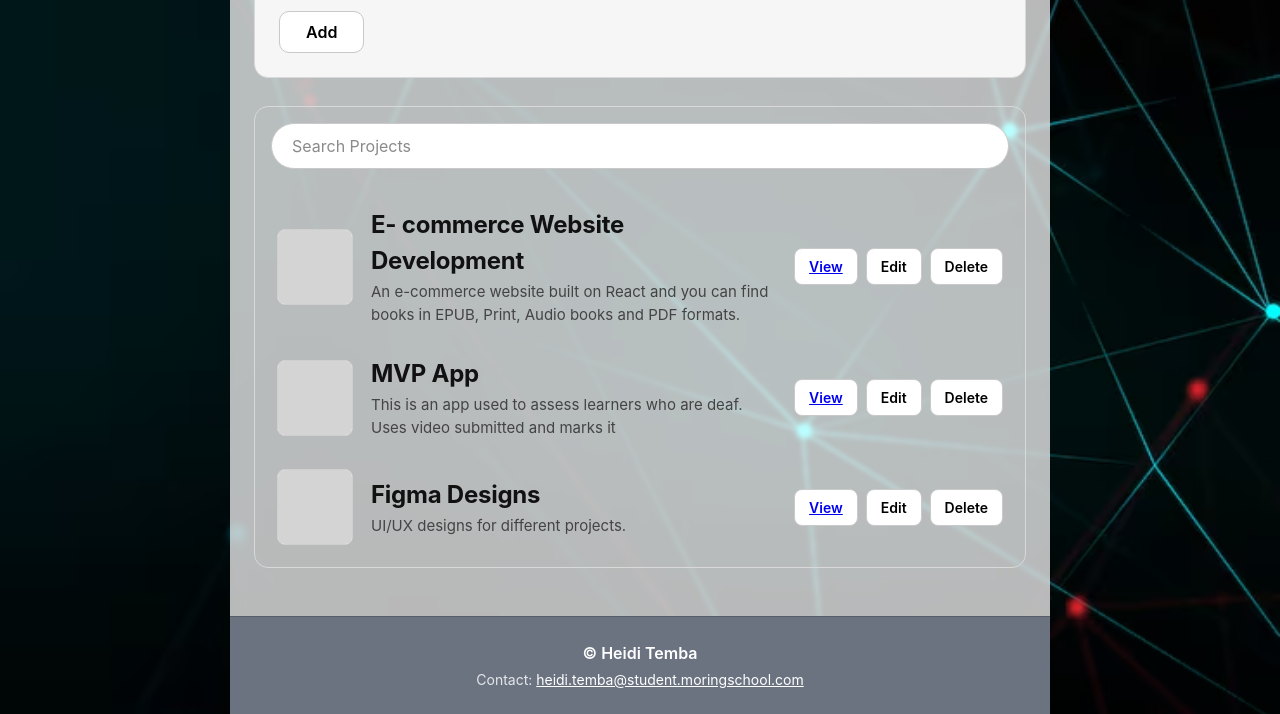
it: App (routing + CRUD) › DELETE: removes a project from the list
This screenshot has width=1280, height=714.
(page scrolled)
Expected: the heading "Figma Designs" is shown, [371,480,540,509]
Click the button "Delete" in the row of "Figma Designs". click: coordinates (966, 507)
box: [930,488,1003,526]
(page scrolled)
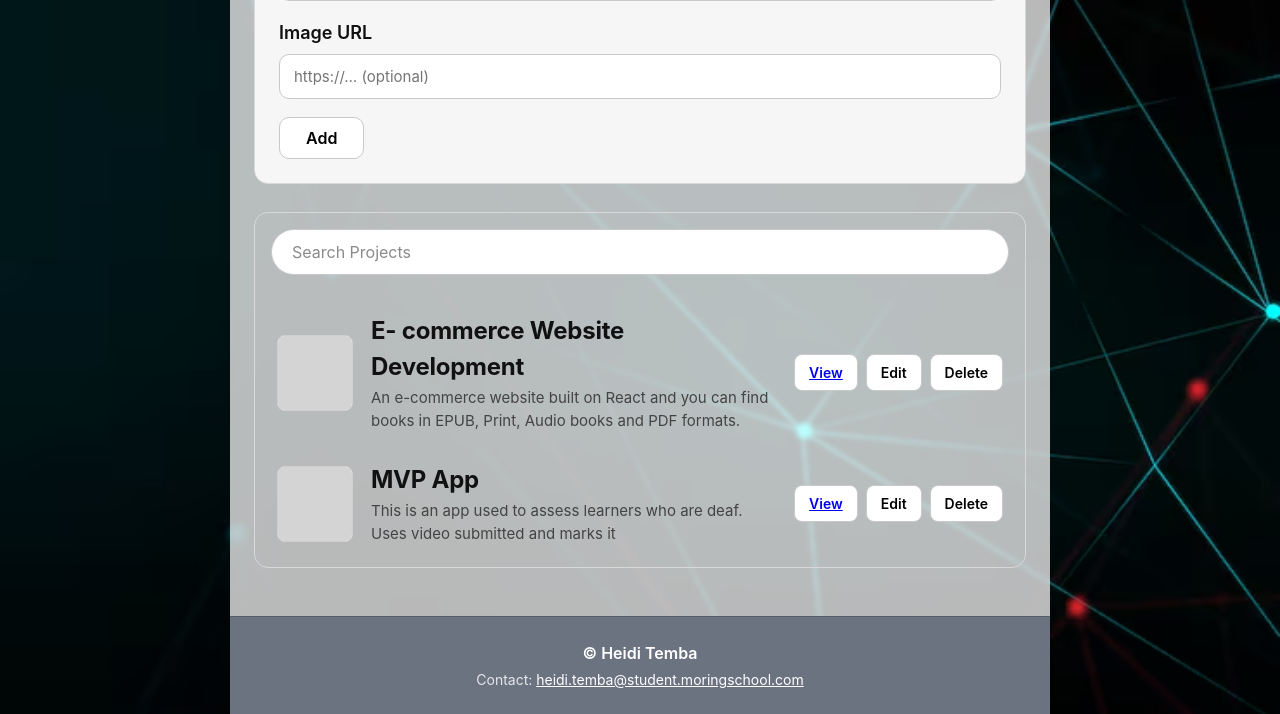
Result: the heading "Figma Designs" is gone
